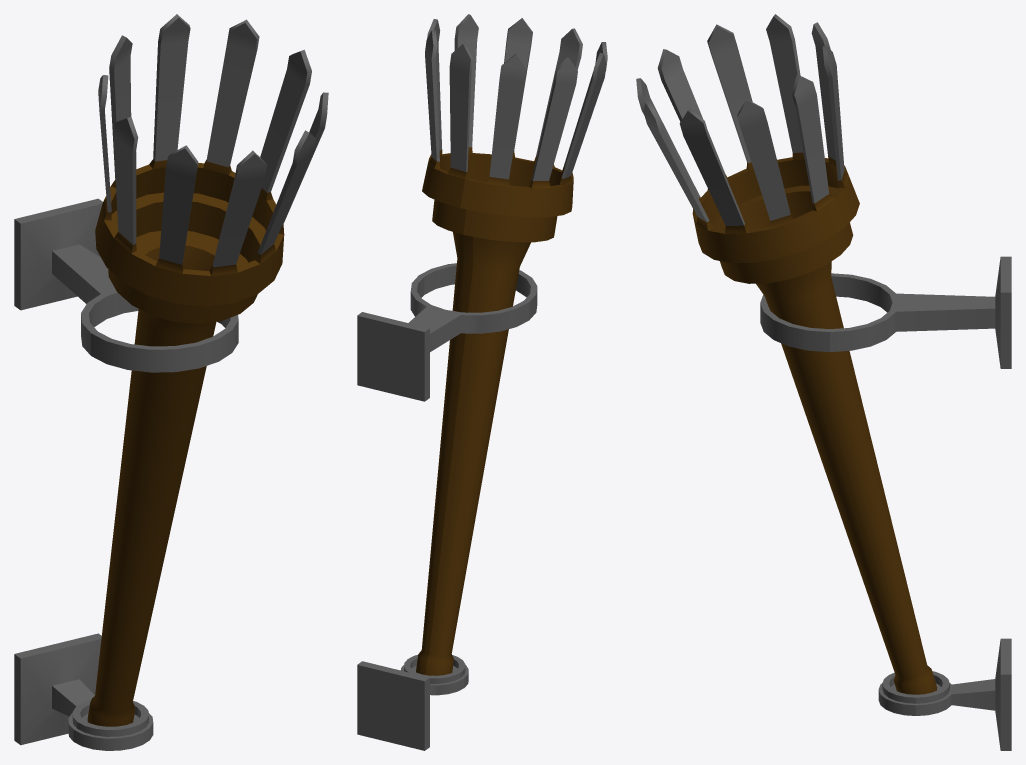
Rendered from torche.glb.
3 renders of one model, left to right at view 1: azimuth 30°, elevation 25°; view 2: azimuth 150°, elevation 25°; view 3: azimuth 270°, elevation 25°, orthographic. The views are drawn at different scales.
Visible parts, largest first — view 1: coffin___graves:Torch_low_coffin___graves:StingrayPBS1_0, coffin___graves:Torch_base_low_coffin___graves:StingrayPBS1_; view 2: coffin___graves:Torch_low_coffin___graves:StingrayPBS1_0, coffin___graves:Torch_base_low_coffin___graves:StingrayPBS1_; view 3: coffin___graves:Torch_low_coffin___graves:StingrayPBS1_0, coffin___graves:Torch_base_low_coffin___graves:StingrayPBS1_.
Part boxes in pixels (<box>): coffin___graves:Torch_low_coffin___graves:StingrayPBS1_0: <box>87,14,328,726</box>; coffin___graves:Torch_base_low_coffin___graves:StingrayPBS1_: <box>14,198,238,750</box>; coffin___graves:Torch_low_coffin___graves:StingrayPBS1_0: <box>416,14,607,675</box>; coffin___graves:Torch_base_low_coffin___graves:StingrayPBS1_: <box>357,263,537,750</box>; coffin___graves:Torch_low_coffin___graves:StingrayPBS1_0: <box>636,14,937,694</box>; coffin___graves:Torch_base_low_coffin___graves:StingrayPBS1_: <box>760,256,1011,750</box>.
Size of the model in its own units: 0.4255 by 1.61 by 0.7914.
